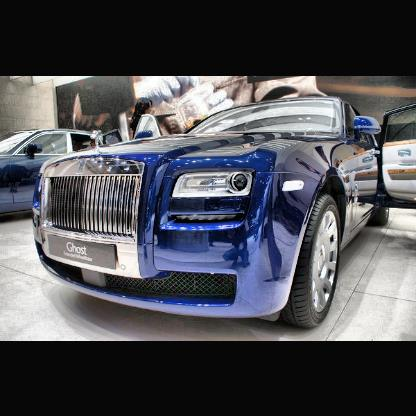Rolls-Royce Ghost Sedan 2012: (33, 95, 392, 332)
